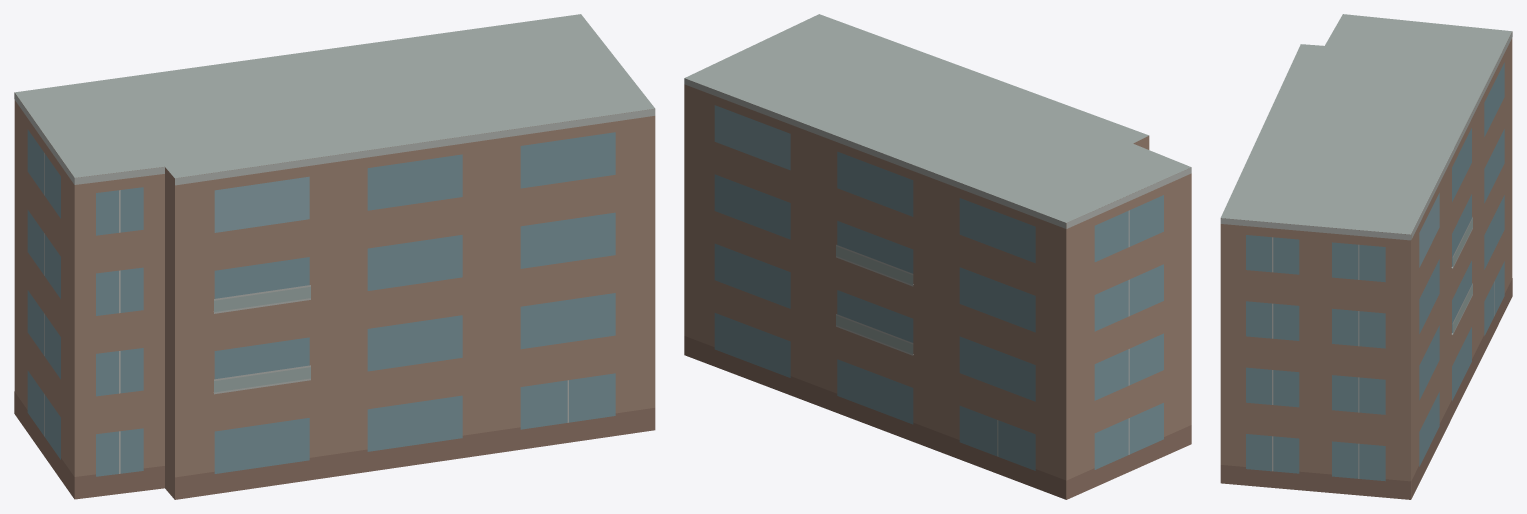
Rendered from survey-upis-32526835.glb.
The picture shows the model from 3 angles, left to right: view 1: azimuth 30°, elevation 25°; view 2: azimuth 150°, elevation 25°; view 3: azimuth 270°, elevation 25°; orthographic projection. The views are drawn at different scales.
Visible parts, largest first — view 1: survey-upis-32526835.tmp; view 2: survey-upis-32526835.tmp; view 3: survey-upis-32526835.tmp.
Part boxes in pixels (box(x1,y1,x2,y2)): survey-upis-32526835.tmp: box(14, 14, 655, 499); survey-upis-32526835.tmp: box(684, 14, 1191, 499); survey-upis-32526835.tmp: box(1220, 14, 1512, 499).
Size of the model in its own units: 19.62 by 11 by 10.98.
